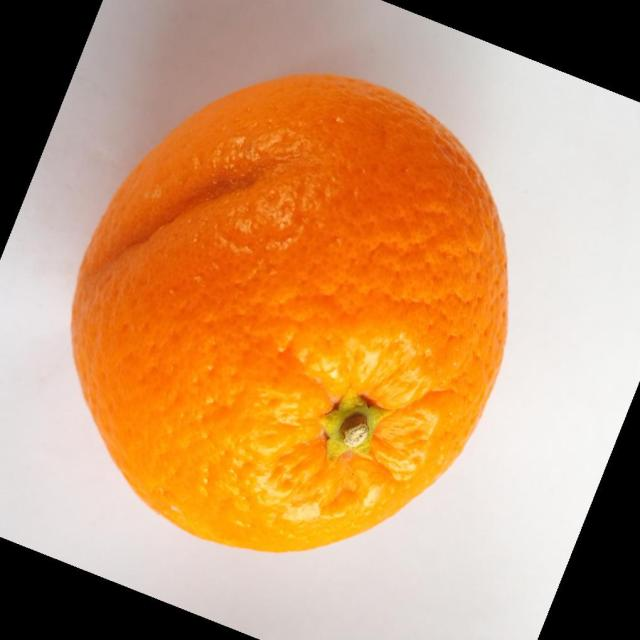fresh orange: (70, 71, 510, 554)
